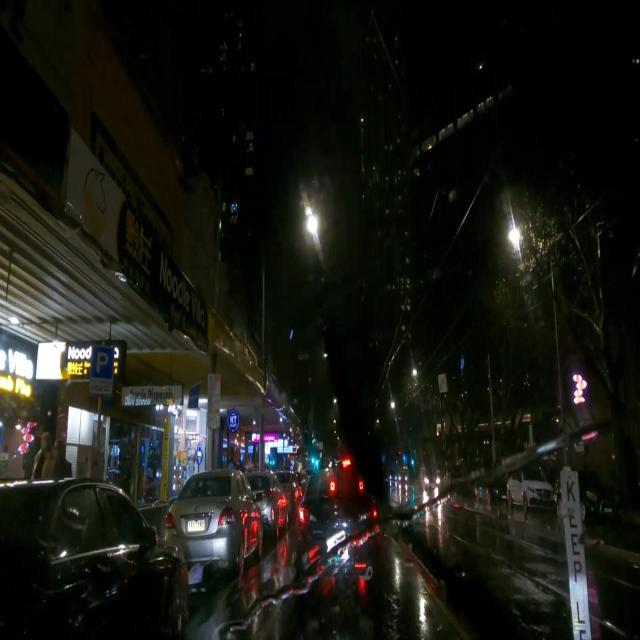Car: (295, 467, 379, 593), (164, 471, 261, 576), (502, 469, 553, 513)
